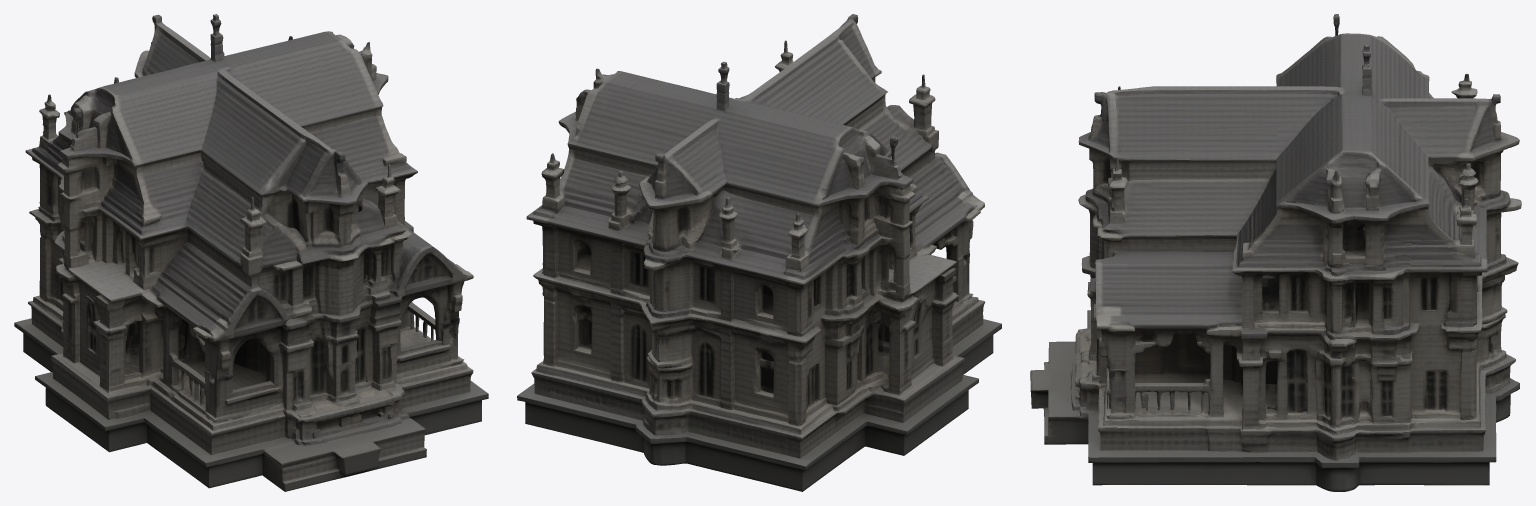
Rendered from std_trellis_mansion.glb.
The picture shows the model from 3 angles, left to right: view 1: azimuth 30°, elevation 25°; view 2: azimuth 150°, elevation 25°; view 3: azimuth 270°, elevation 25°; orthographic projection. The views are drawn at different scales.
Parts seen in each view (by area): view 1: world; view 2: world; view 3: world.
Boxes of the visible parts, x1=… form: world: x1=14, y1=14, x2=488, y2=491; world: x1=517, y1=14, x2=1001, y2=491; world: x1=1030, y1=14, x2=1521, y2=491.
Bounding box in the file's own units: 0.844 × 0.828 × 0.9996.
1 material, 1 textured.
